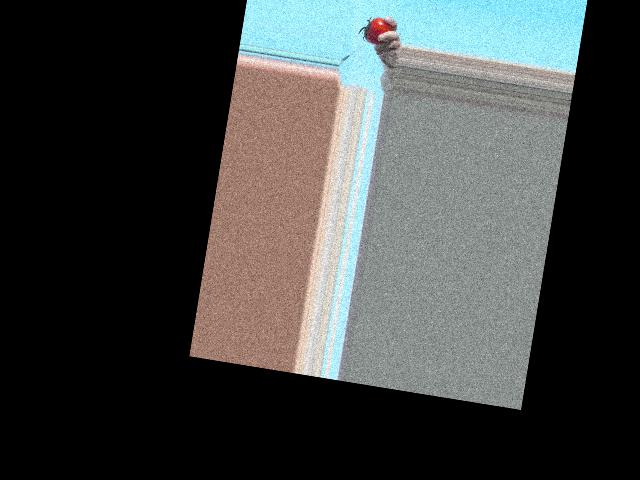tomato: (363, 15, 394, 46)
